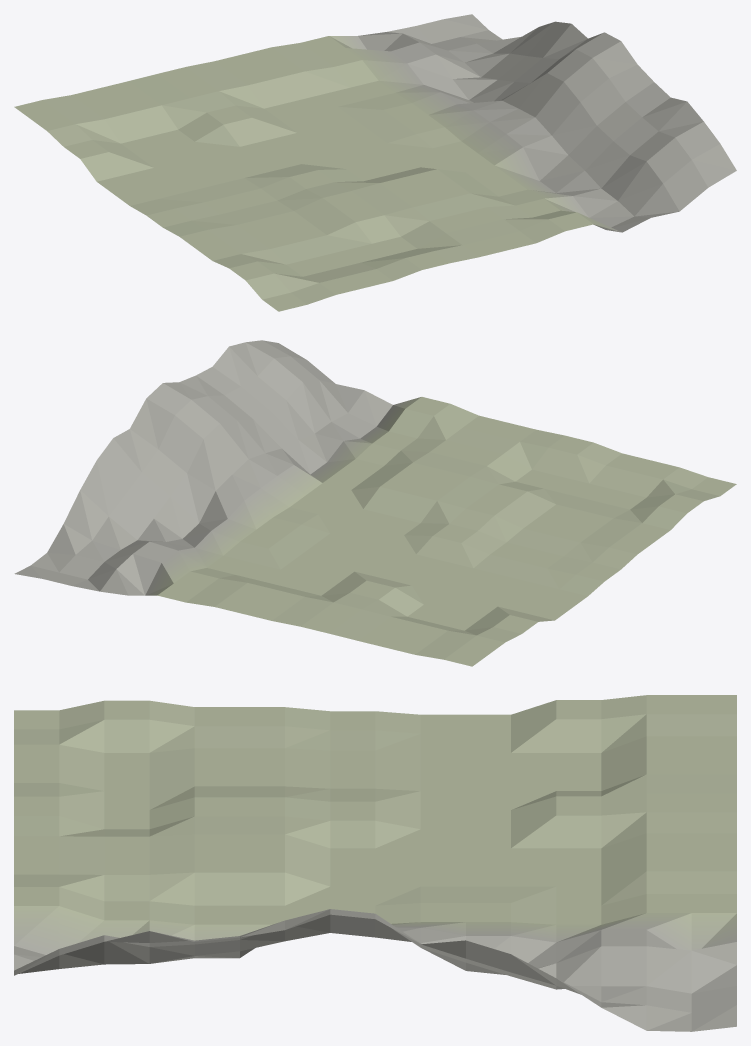
3 views of the same model, one above another, from view 1: azimuth 30°, elevation 25°; view 2: azimuth 150°, elevation 25°; view 3: azimuth 270°, elevation 25° (orthographic). The views are drawn at different scales.
Size of the model in its own units: 32 by 5.89 by 32.
